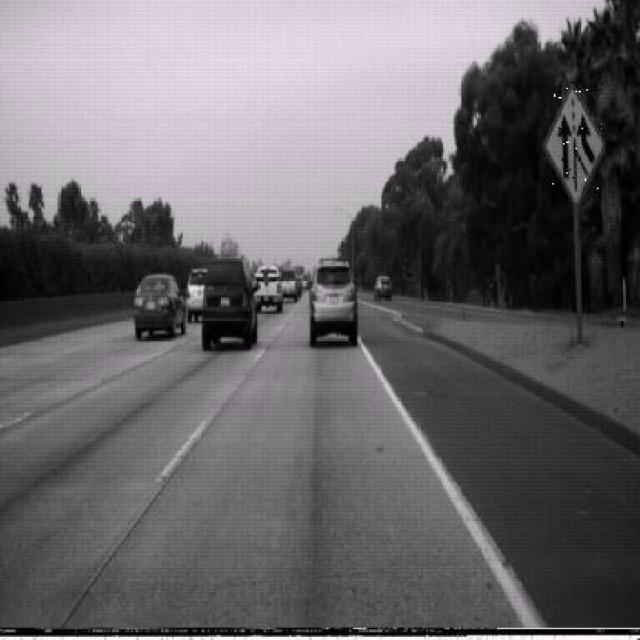addedLane: (543, 81, 605, 206)
